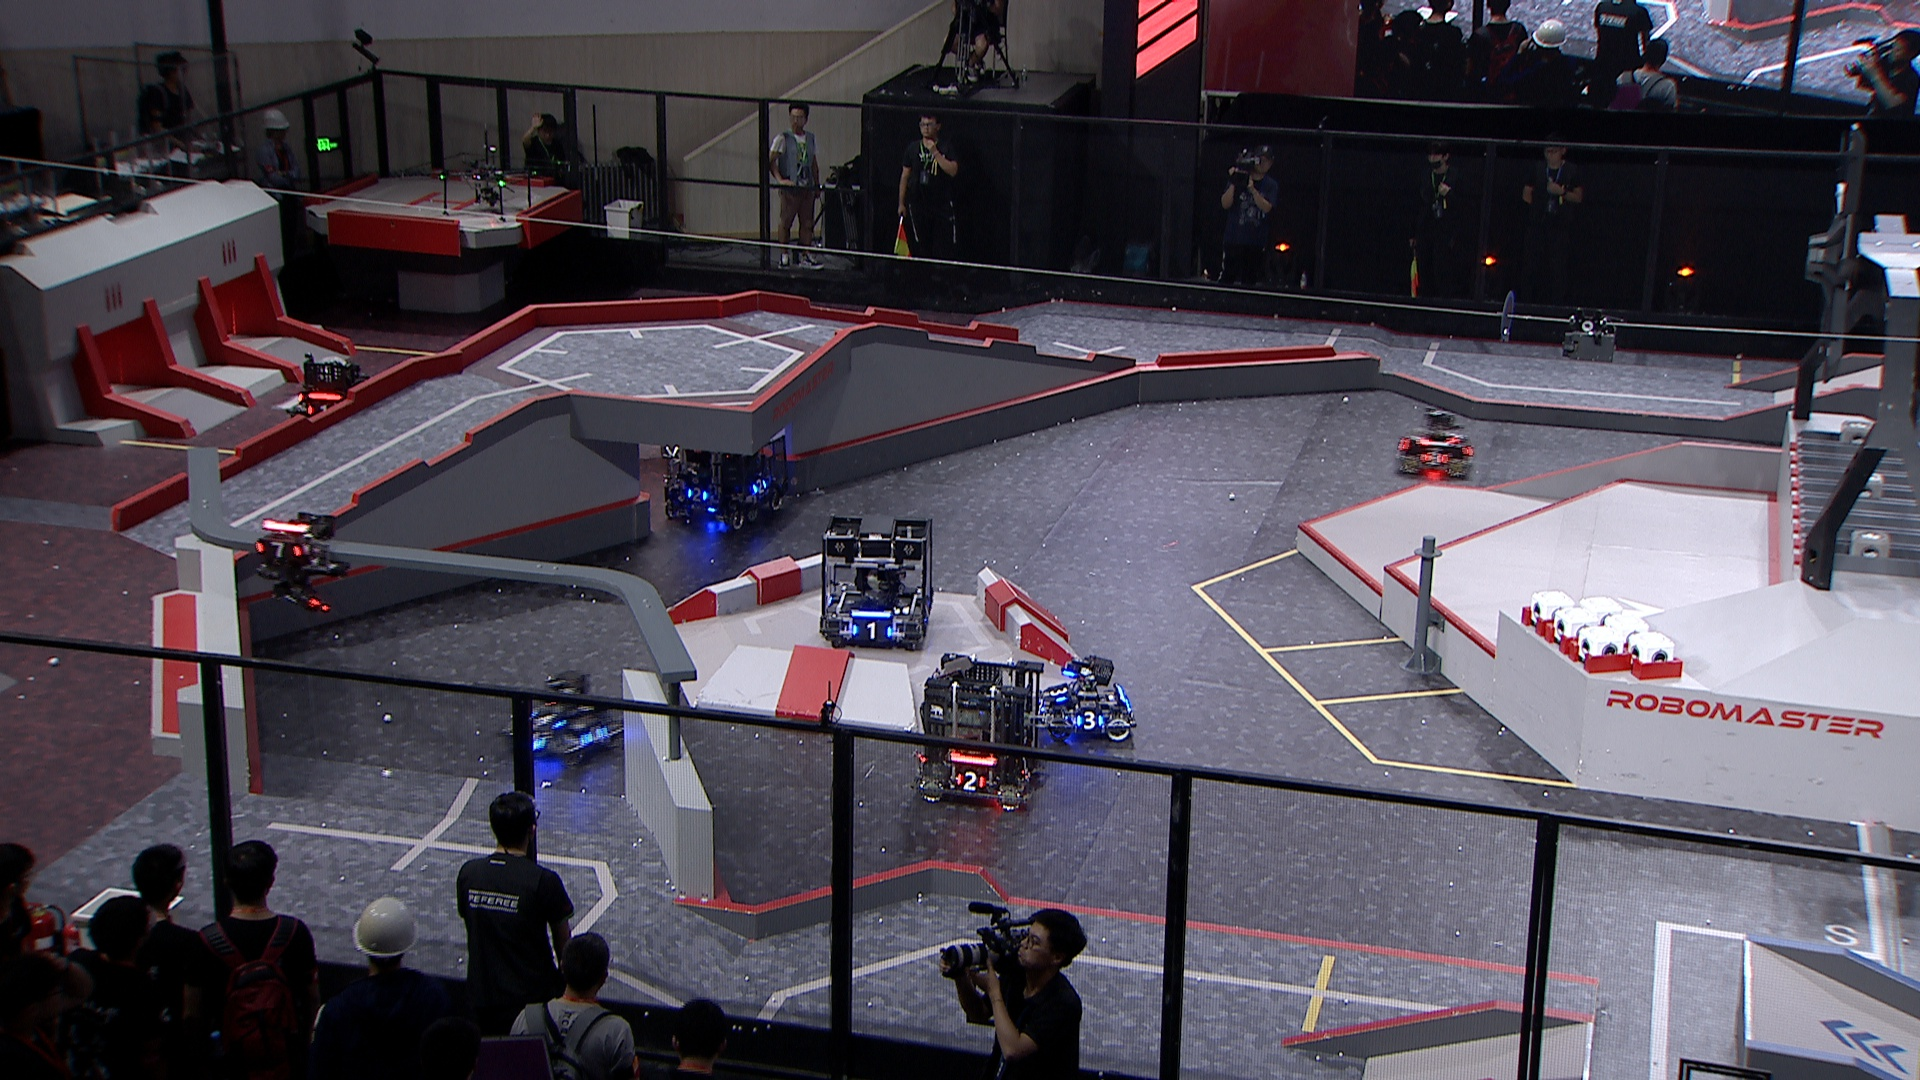armor: (855, 621, 893, 641), (953, 771, 988, 793), (256, 541, 301, 556), (584, 723, 608, 745), (1011, 756, 1035, 777), (524, 731, 549, 750), (1077, 712, 1102, 731), (1050, 680, 1067, 705), (531, 711, 556, 727), (305, 404, 332, 417), (1423, 451, 1447, 465), (683, 488, 708, 501), (752, 475, 767, 495), (1447, 429, 1466, 443), (1034, 695, 1046, 719), (922, 597, 932, 622)
car: (906, 645, 1044, 808), (816, 509, 940, 650), (659, 405, 793, 529), (502, 669, 632, 764), (1026, 647, 1134, 749), (284, 356, 373, 431), (1394, 406, 1476, 483)
watcher: (249, 505, 345, 618)
